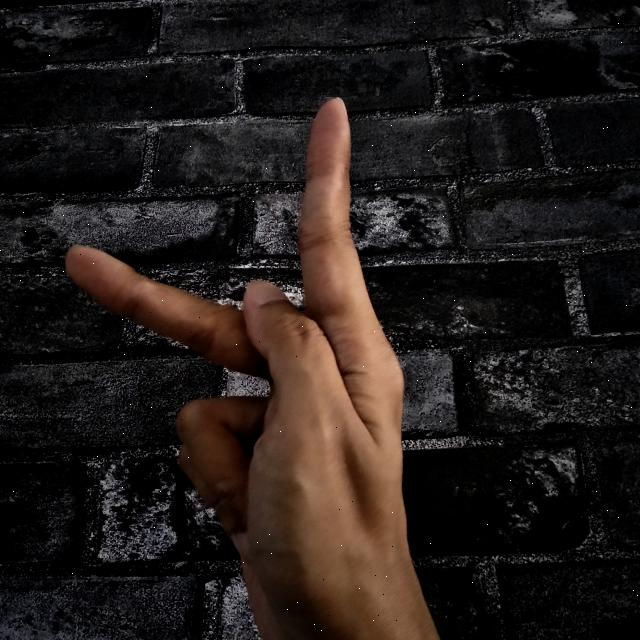K: (60, 91, 441, 640)
